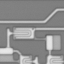dust: (31, 27, 34, 30)
